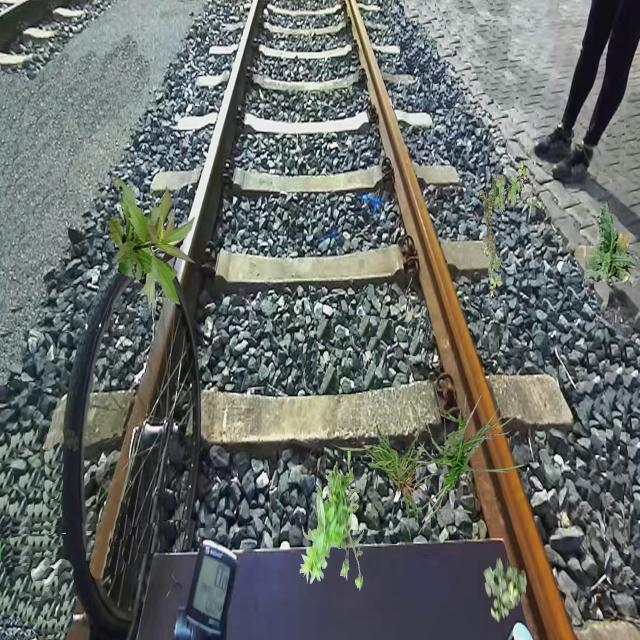Plant: (408, 371, 526, 534), (329, 424, 472, 544), (108, 176, 196, 306), (300, 448, 364, 592), (119, 206, 190, 306), (479, 161, 528, 299), (574, 200, 638, 283), (483, 557, 526, 624)
